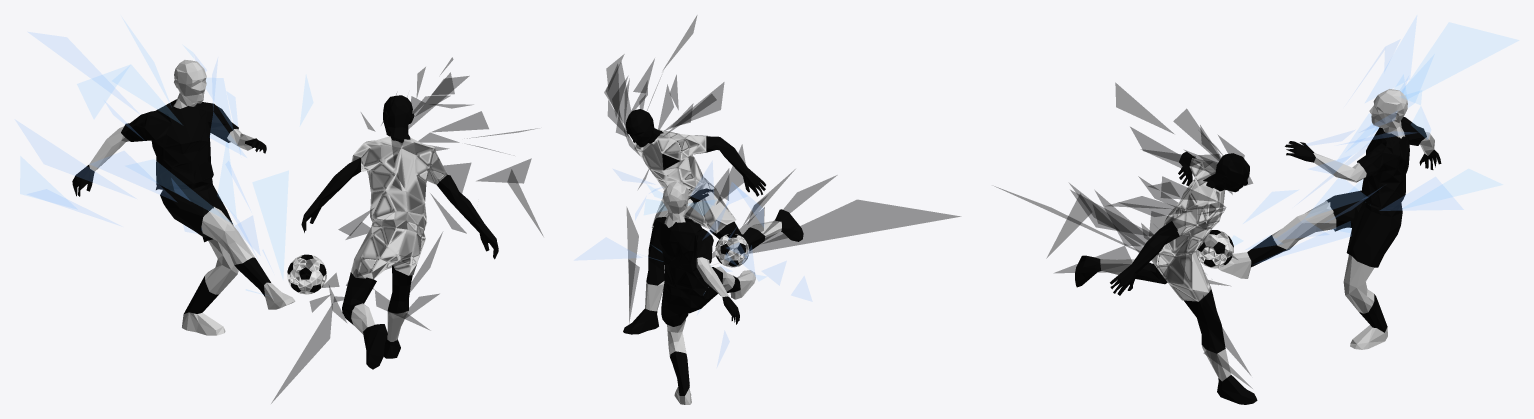
File: footballers.fbx
3 renders of one model, left to right at view 1: azimuth 30°, elevation 25°; view 2: azimuth 150°, elevation 25°; view 3: azimuth 270°, elevation 25°, orthographic. The views are drawn at different scales.
Visible parts, largest first — view 1: Plane; view 2: Plane; view 3: Plane.
Boxes of the visible parts, x1,y1,x2,y2 form: Plane: (16, 19, 542, 403); Plane: (575, 16, 960, 404); Plane: (995, 16, 1518, 404).
Bounding box in the file's own units: 15.61 × 12.99 × 19.77.
